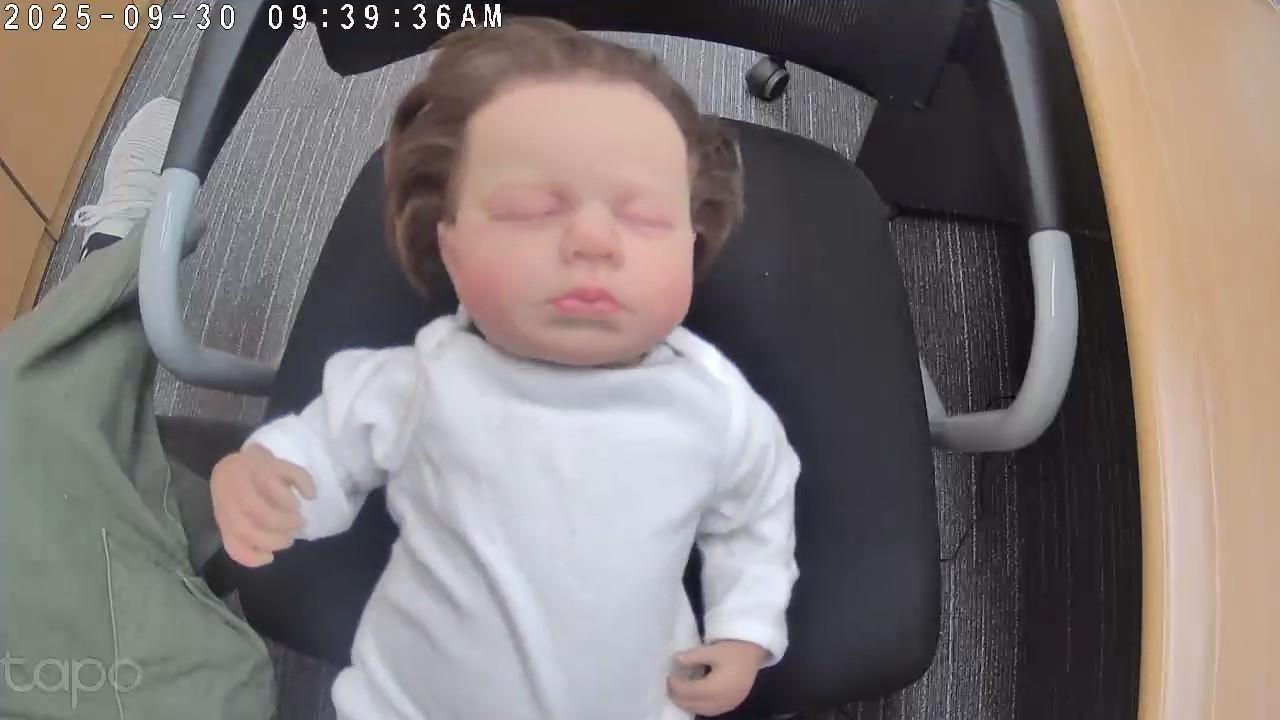hand: (209, 443, 315, 569), (662, 640, 763, 714)
